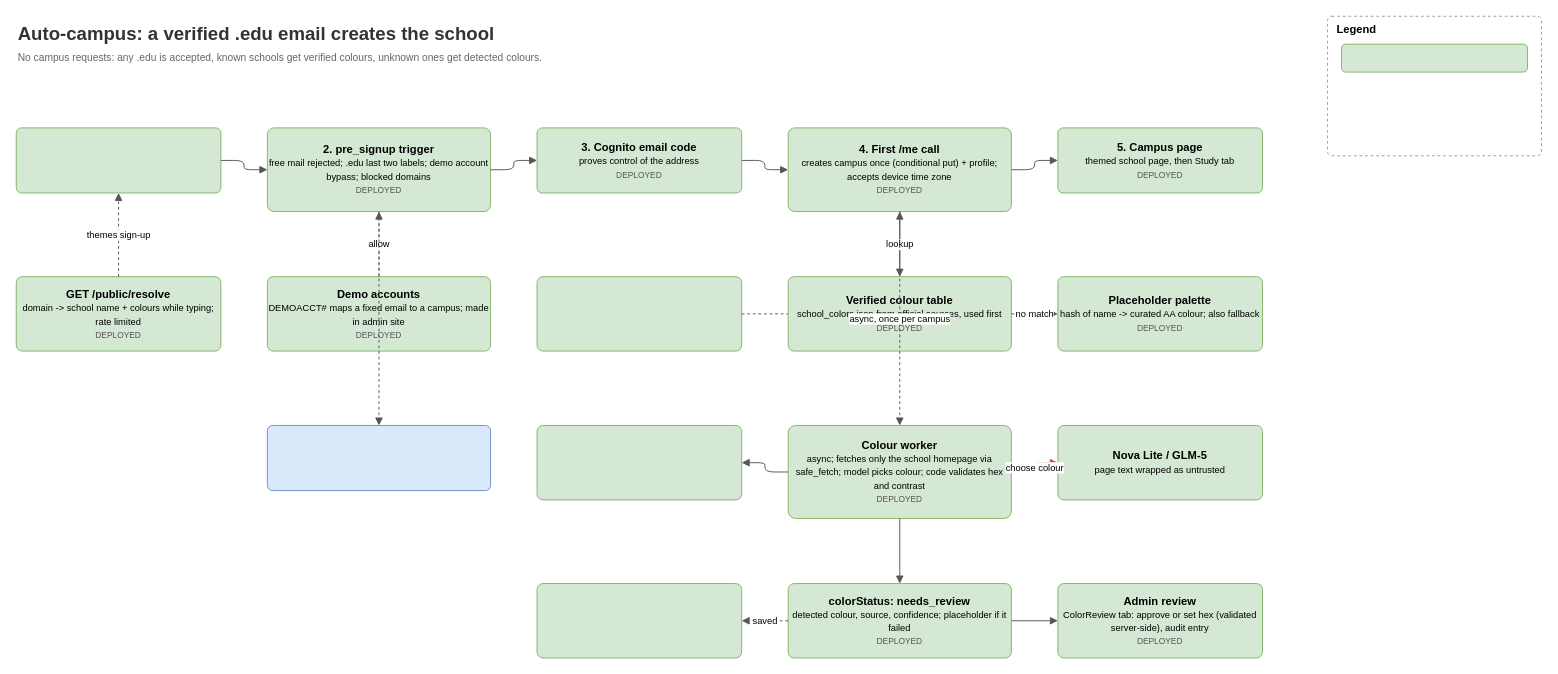
Image size: 1558x674. Some labels were removed from this diagram. Each missing label, with the box of its shape:
1. Email at sign-up student web or app: (15, 127, 221, 193)
Deployed: green solid border: (1341, 43, 1528, 72)
DynamoDB TENANTS, DOMAIN#, USER# profile: (536, 583, 742, 658)
Rejected: non-.edu friendly message, no campus created: (266, 425, 491, 491)
safe_fetch https only, public IPs, size cap, same-domain redirects DEPLOYED: (536, 425, 742, 500)
School registry us_schools.json: official name, domains DEPLOYED: (536, 276, 742, 351)
